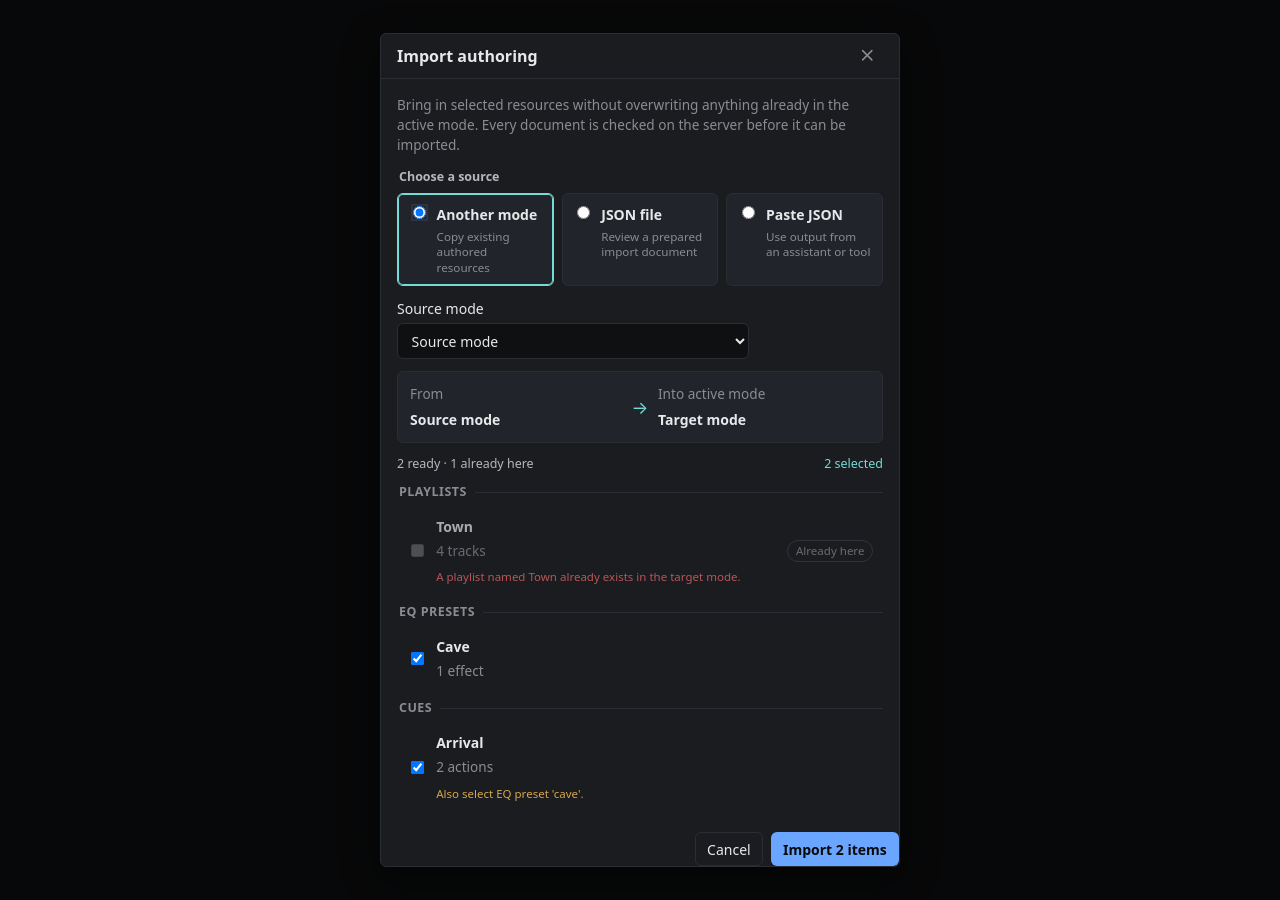
Test case: AuthoringImportModal › validates pasted JSON before sending it to the server
Step 1. Click the radio button labelled "Paste JSON Use output from an assistant or tool" → (748, 212), box x1=742 y1=206 x2=755 y2=219
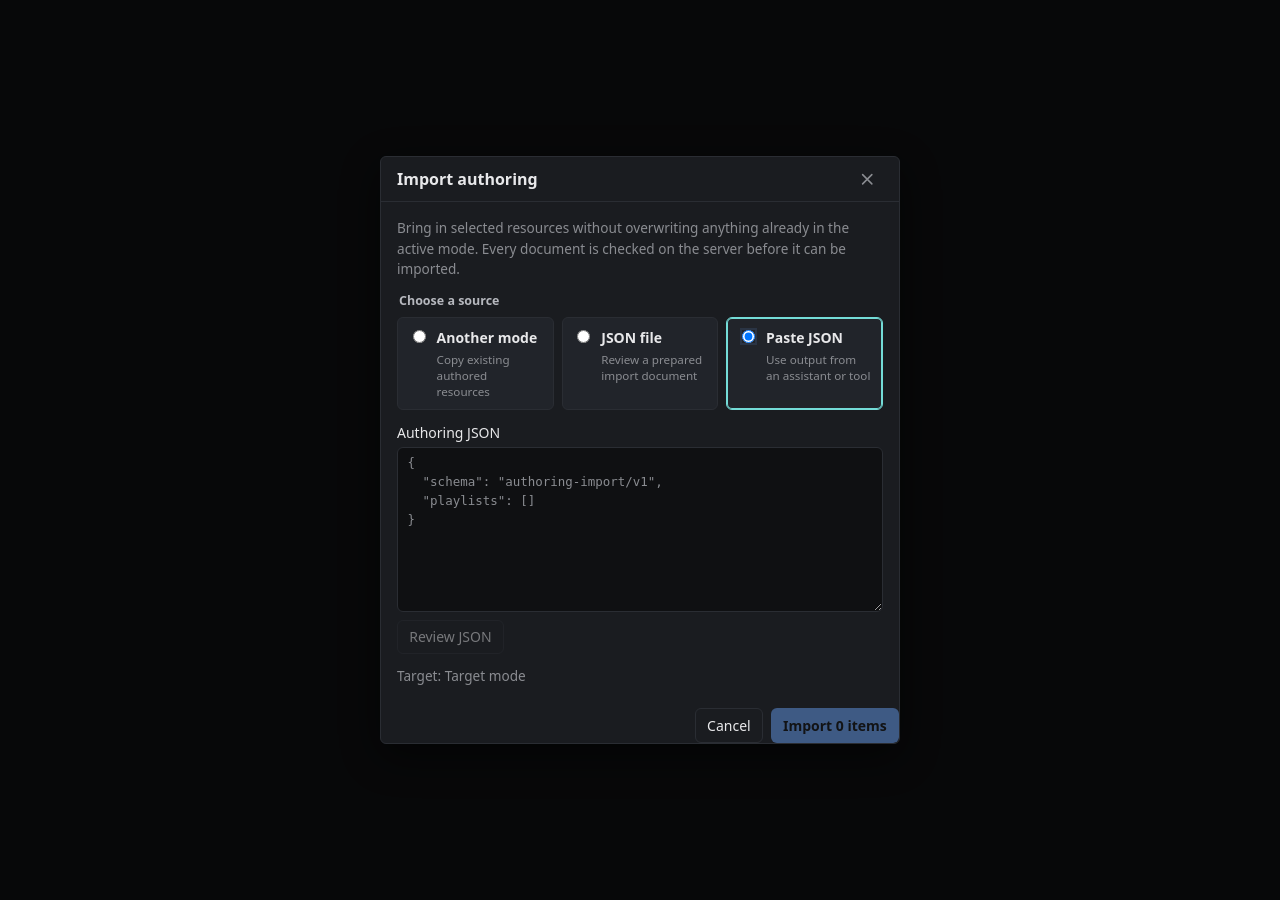
Step 2. Type "not JSON" into the text box labelled "Authoring JSON" → (640, 529), box x1=397 y1=447 x2=883 y2=612
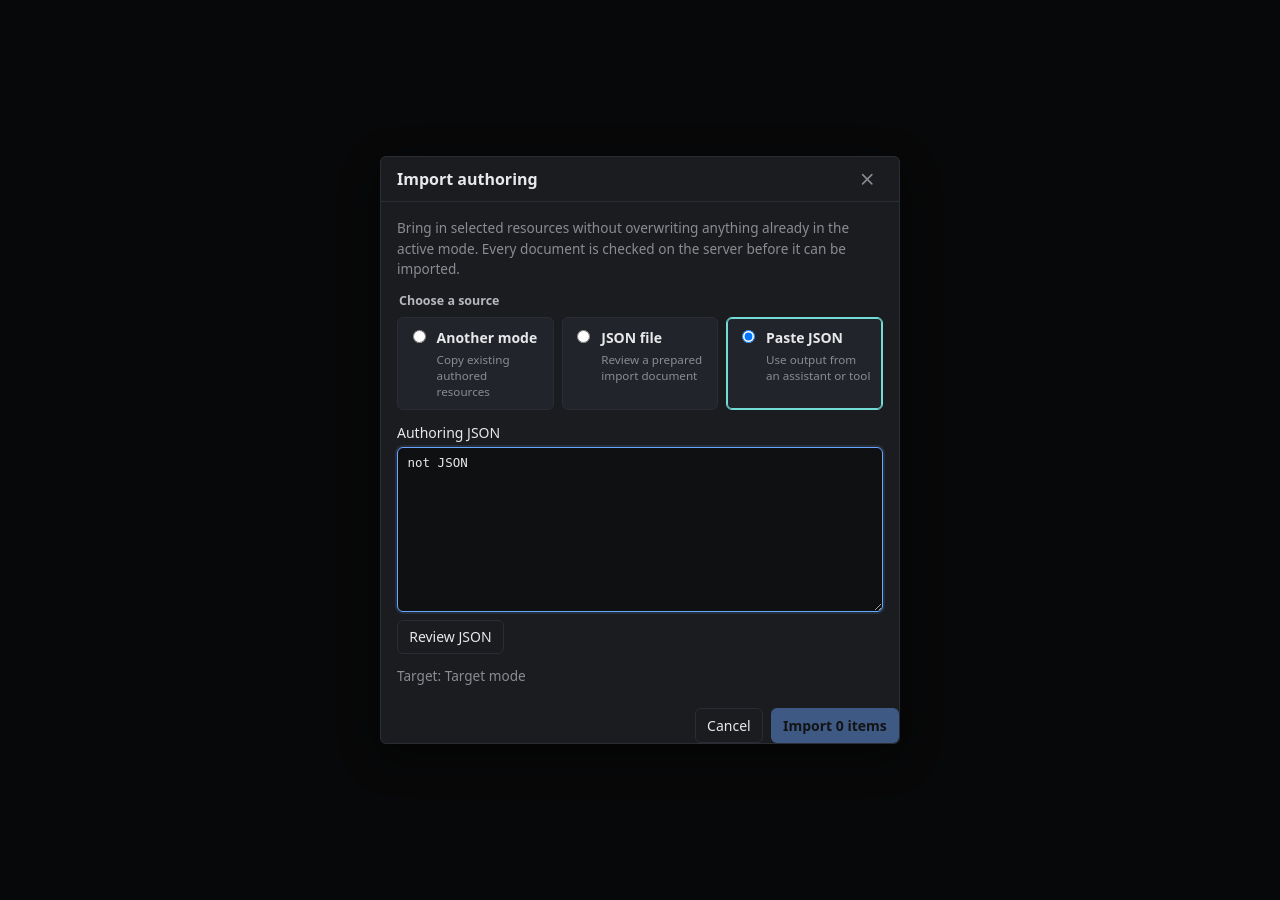
Step 3. Click the button "Review JSON" → (450, 637), box x1=397 y1=620 x2=504 y2=654
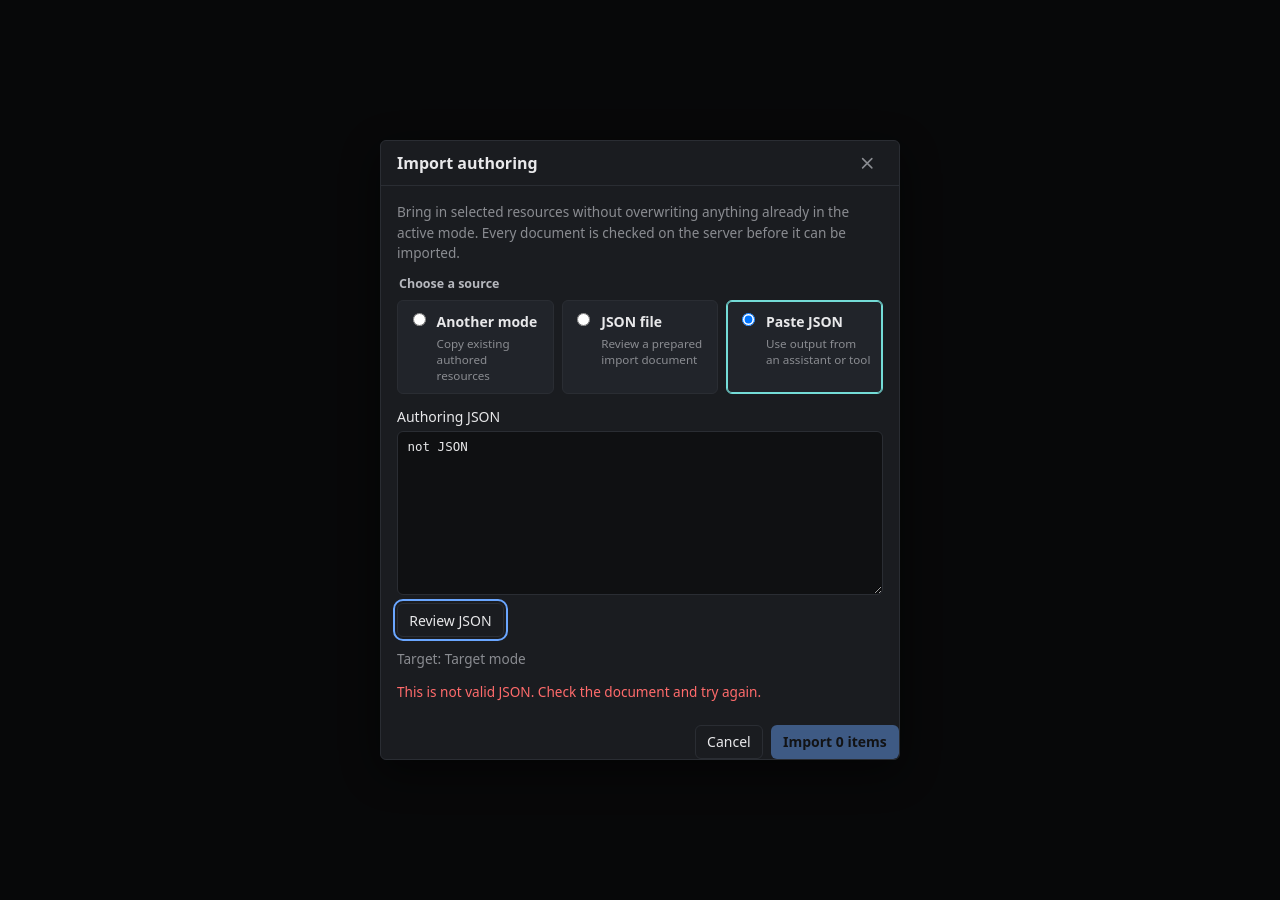
Expected: the message shows "not valid JSON", x1=397 y1=682 x2=761 y2=701
